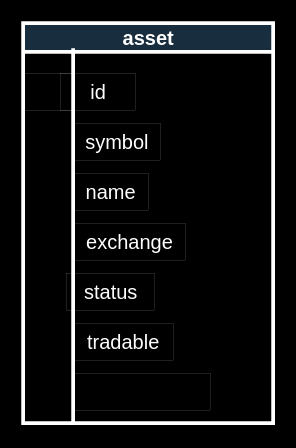
This 296x448 diagram has some shape labels left out. The centre of each missing label's shape, as x and y in pixels:
"lastUpdated" belongs at point (141, 391).
"PK" belongs at point (47, 91).
